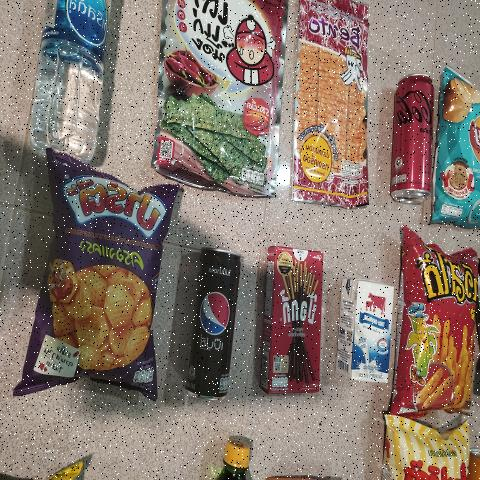bento_red: (290, 3, 368, 196)
coke_red: (386, 67, 441, 210)
party_purple: (27, 187, 162, 386)
pepsi_black: (183, 245, 238, 404)
pokki: (267, 253, 324, 393)
taokaenoi: (162, 0, 280, 176)
thai_denmark: (337, 287, 395, 383)
twisco: (401, 243, 480, 409)
